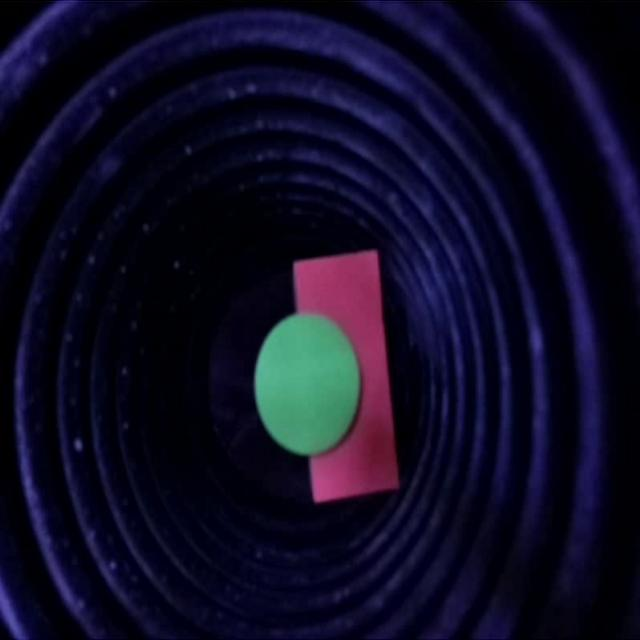obstacles: (257, 249, 400, 495)
